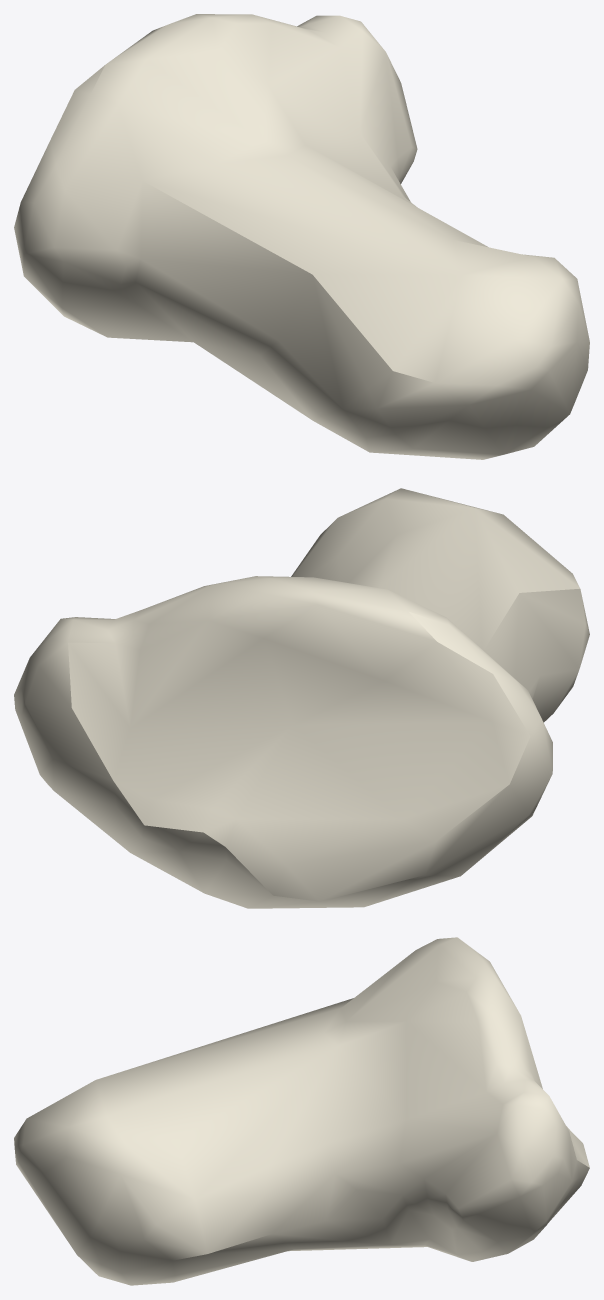
Rendered from fma32655.glb.
The picture shows the model from 3 angles, top to bottom: view 1: azimuth 30°, elevation 25°; view 2: azimuth 150°, elevation 25°; view 3: azimuth 270°, elevation 25°; orthographic projection. The views are drawn at different scales.
Visible parts, largest first — view 1: FMA32655; view 2: FMA32655; view 3: FMA32655.
Boxes of the visible parts, <box> form: FMA32655: <box>14,14,589,459</box>; FMA32655: <box>14,488,589,908</box>; FMA32655: <box>14,937,589,1285</box>.
Size of the model in its own units: 0.0087 by 0.00592 by 0.0115.
